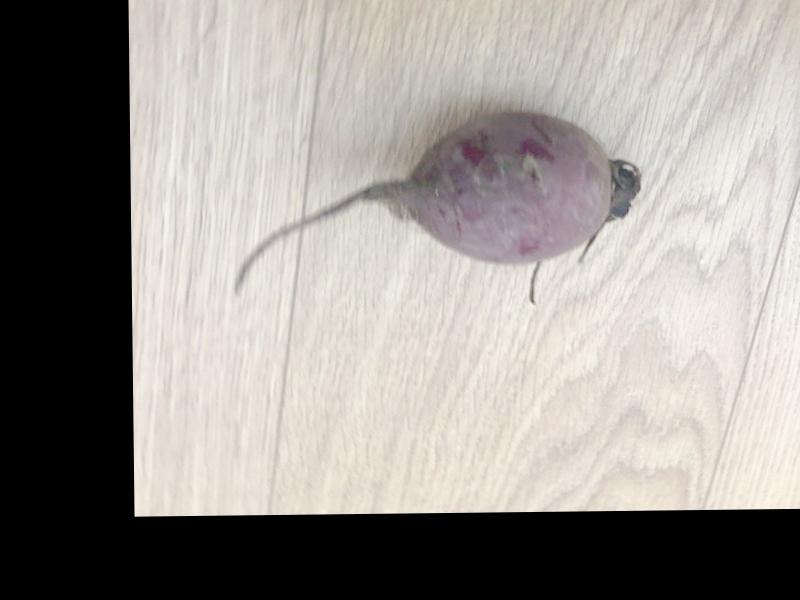Beet: (230, 113, 640, 306)
